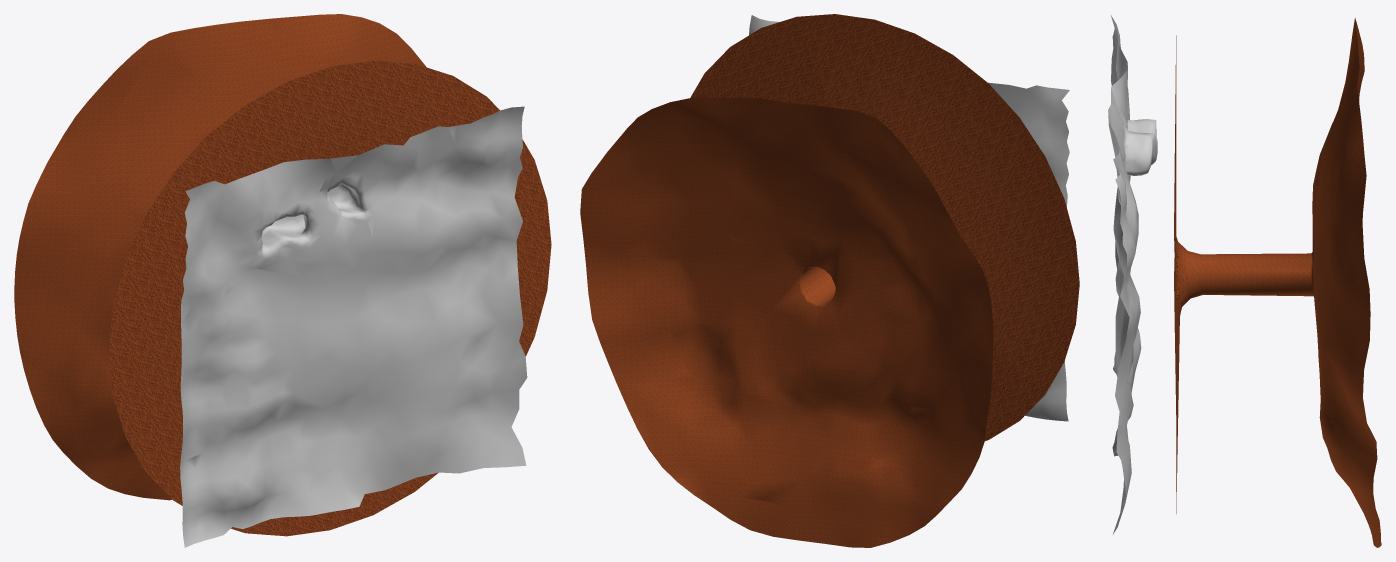
File: ground2.dae
3 renders of one model, left to right at view 1: azimuth 30°, elevation 25°; view 2: azimuth 150°, elevation 25°; view 3: azimuth 270°, elevation 25°, orthographic. The views are drawn at different scales.
Visible parts, largest first — view 1: lower, upper; view 2: upper, lower; view 3: upper, lower.
Part boxes in pixels (x1,y1,x2,y2): lower: (180,106,527,547); upper: (14,14,551,536); upper: (580,14,1079,547); lower: (749,15,1069,421); upper: (1174,18,1381,547); lower: (1108,15,1157,534).
Bounding box in the file's own units: 100 × 54.12 × 106.
